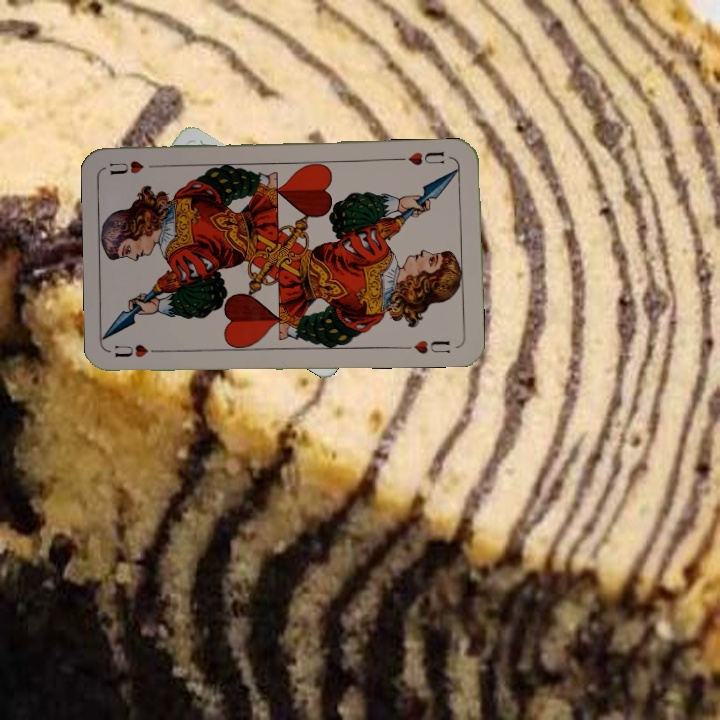HU: (110, 340, 168, 360), (396, 148, 447, 168)
